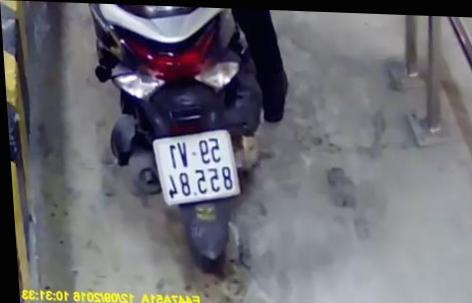License_Plate: (147, 121, 256, 218)
